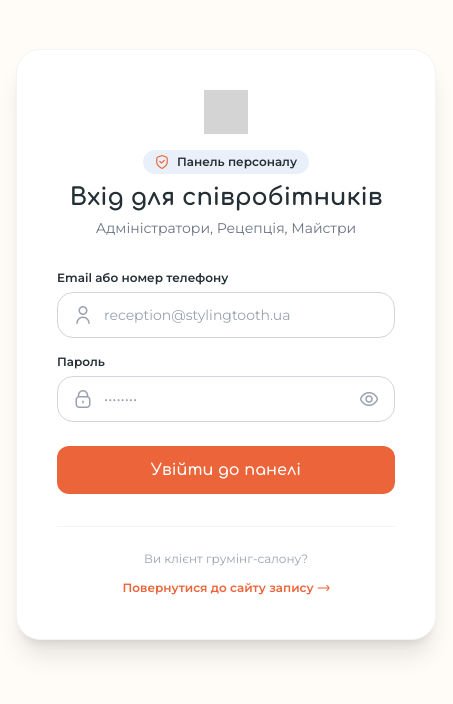
StaffLoginPage › validates empty inputs on submit
Click the button "Увійти до панелі".
click(226, 470)  # box top-left (57, 446), bottom-right (395, 494)
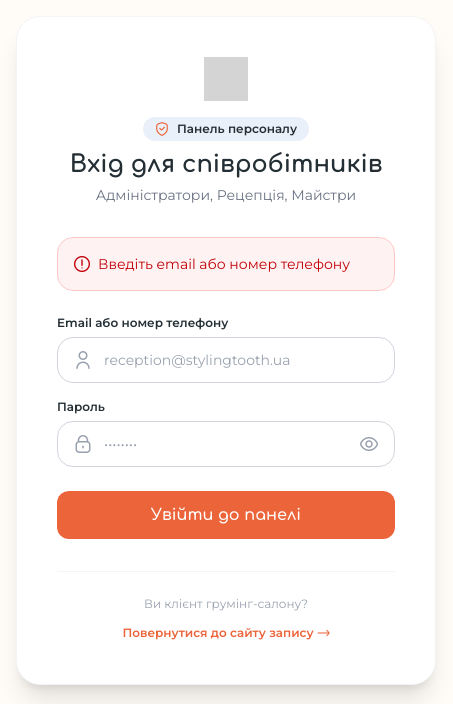
expect the text "Введіть email або номер телефону" is shown: met, box top-left (98, 254), bottom-right (350, 274)
